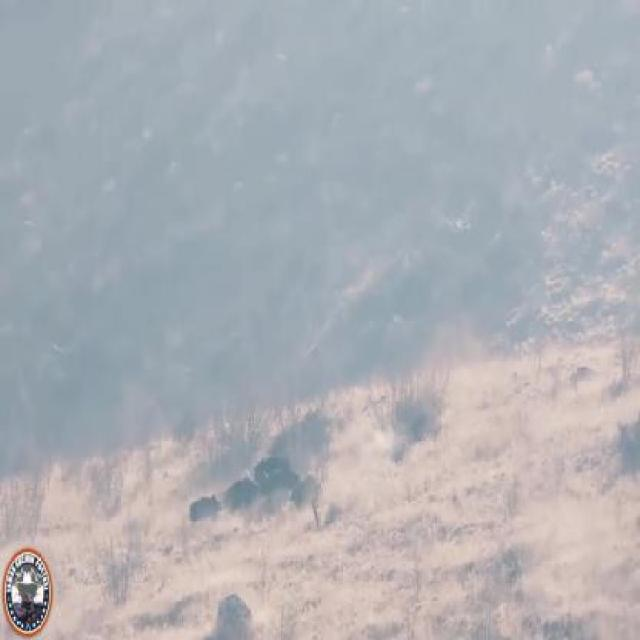Boar: (186, 481, 220, 537)
